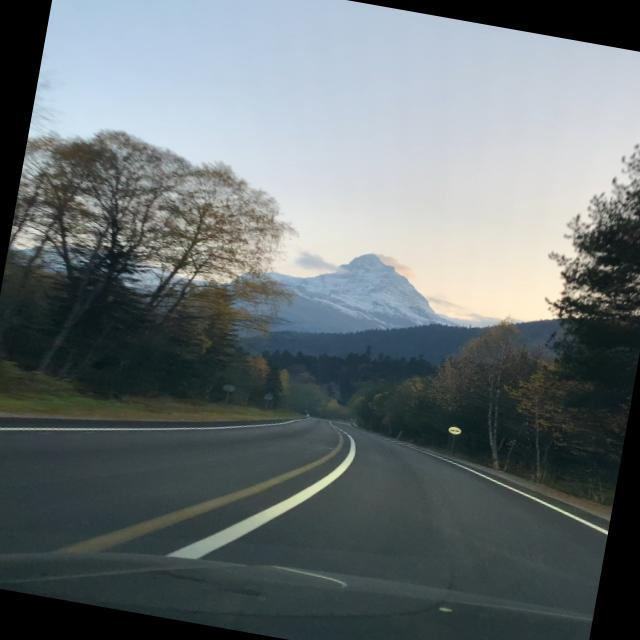asphalt: (0, 417, 609, 616)
